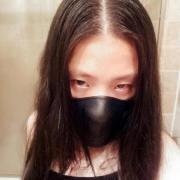OK: (59, 66, 145, 148)
